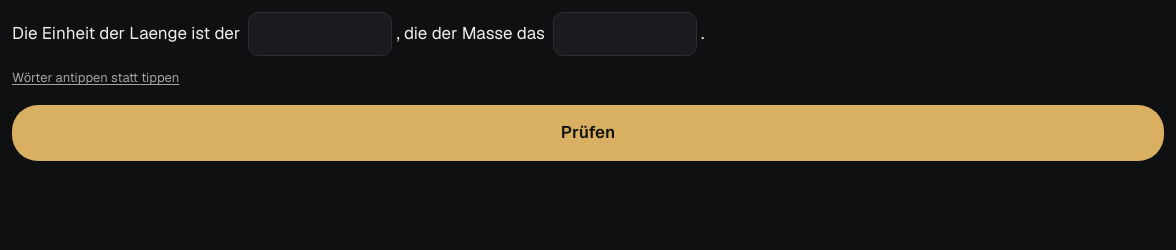
Test: ClozeCard – Wortbank › setzt ein Wort in die zuvor gewählte Lücke
The image size is (1176, 250).
Step 1. Click the button "Wörter antippen statt tippen" → click(96, 78), box [12, 68, 179, 88]
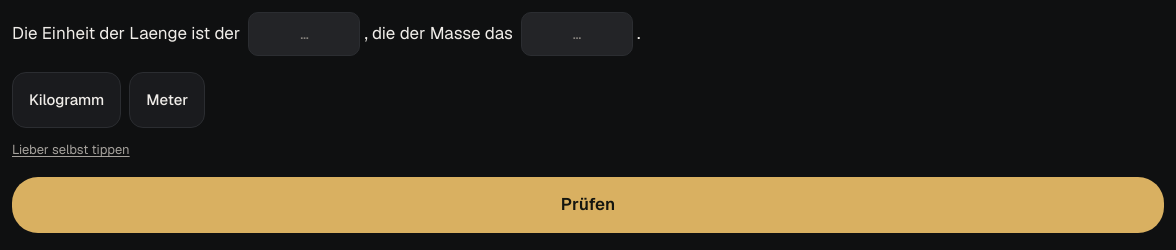
Step 2. Click the button named "Lücke 2" → click(577, 34), box [521, 12, 633, 56]
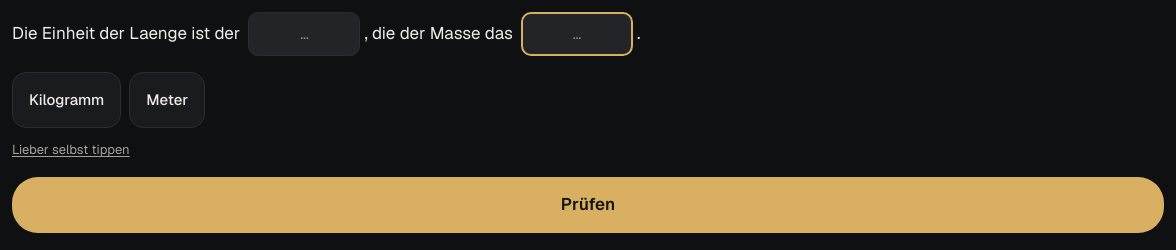
Step 3. Click the button "Meter" → click(167, 100), box [129, 72, 205, 128]
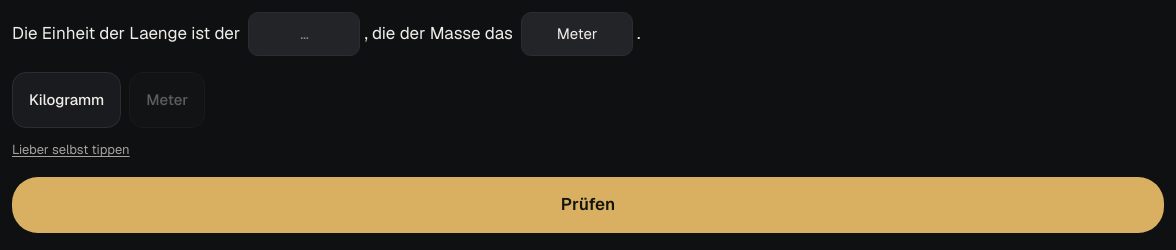
Check: the button named "Lücke 1" reads "…", box [248, 12, 360, 56]
Check: the button with aria-label "Lücke 2" reads "Meter", box [521, 12, 633, 56]
